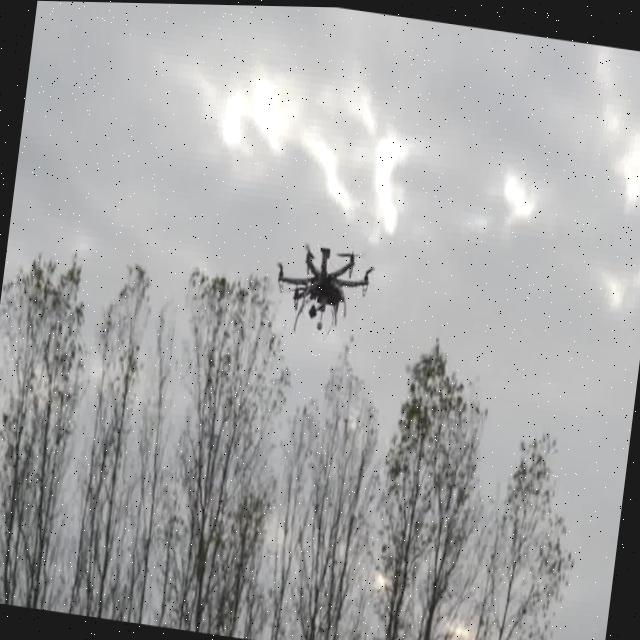drone: (268, 234, 375, 337)
